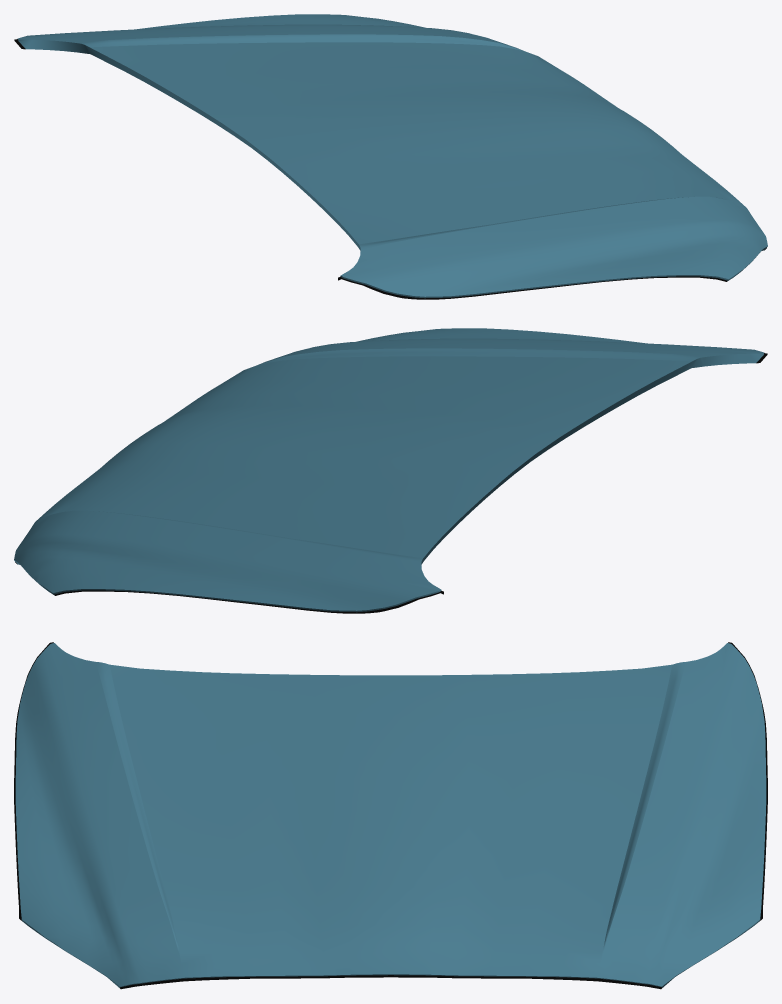
3 renders of one model, top to bottom at view 1: azimuth 30°, elevation 25°; view 2: azimuth 150°, elevation 25°; view 3: azimuth 270°, elevation 25°, orthographic. The views are drawn at different scales.
Visible parts, largest first — view 1: Y175_18_101B_C_1_DaS_Y175_18_101B_C, Y175_18_101B_C_1_DaS_Y175_18_101B_C_E, Y175_18_101B_C_Y175_18_101B_C_2_D; view 2: Y175_18_101B_C_1_DaS_Y175_18_101B_C, Y175_18_101B_C_1_DaS_Y175_18_101B_C_E, Y175_18_101B_C_Y175_18_101B_C_2_D; view 3: Y175_18_101B_C_1_DaS_Y175_18_101B_C, Y175_18_101B_C_1_DaS_Y175_18_101B_C_E, Y175_18_101B_C_Y175_18_101B_C_2_D.
Part boxes in pixels (<box>): Y175_18_101B_C_1_DaS_Y175_18_101B_C: <box>18,14,767,296</box>; Y175_18_101B_C_1_DaS_Y175_18_101B_C_E: <box>17,34,767,298</box>; Y175_18_101B_C_Y175_18_101B_C_2_D: <box>14,39,766,299</box>; Y175_18_101B_C_1_DaS_Y175_18_101B_C: <box>14,328,763,610</box>; Y175_18_101B_C_1_DaS_Y175_18_101B_C_E: <box>14,348,764,612</box>; Y175_18_101B_C_Y175_18_101B_C_2_D: <box>15,353,767,613</box>; Y175_18_101B_C_1_DaS_Y175_18_101B_C: <box>15,643,766,986</box>; Y175_18_101B_C_1_DaS_Y175_18_101B_C_E: <box>22,662,759,987</box>; Y175_18_101B_C_Y175_18_101B_C_2_D: <box>14,642,767,989</box>.
Size of the model in its own units: 123 by 27.52 by 161.
